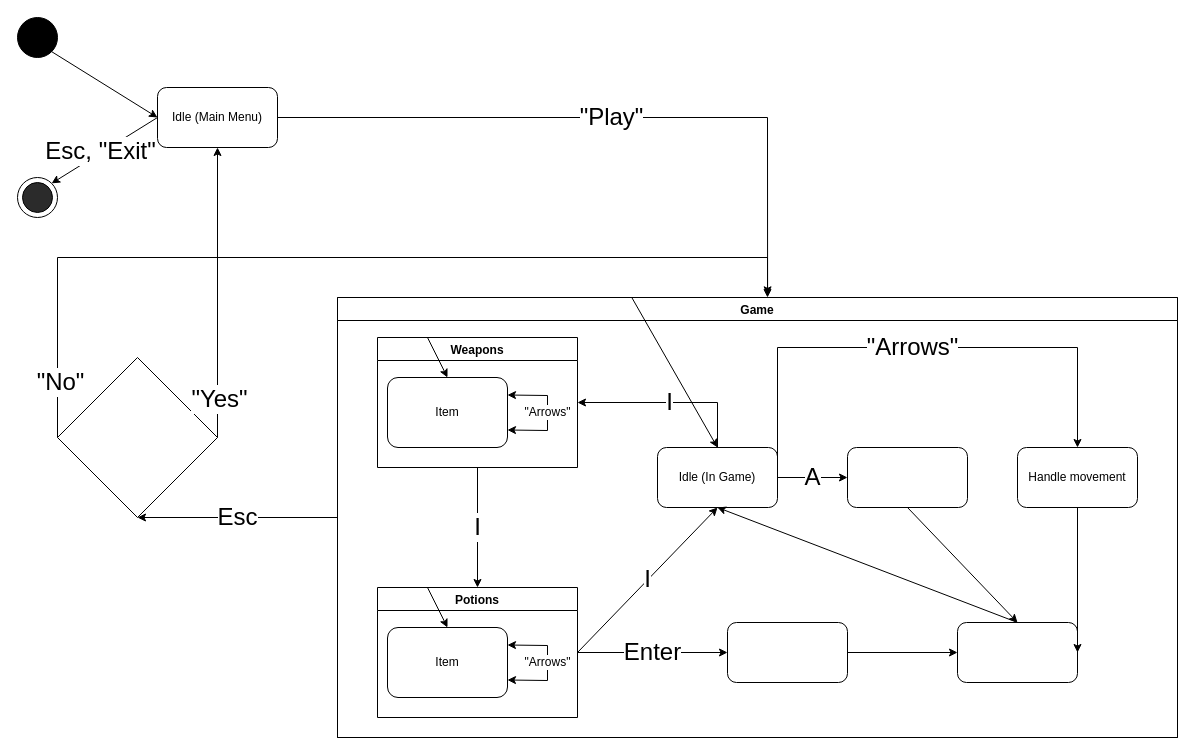
Some shapes in this 1195 by 755 pixel diagram are drawn without their labels. Each missing label, with the centre of its shape:
Exit?: [137,437]
Handle attack: [907,477]
Handle potion: [787,652]
State refresh: [1017,652]
